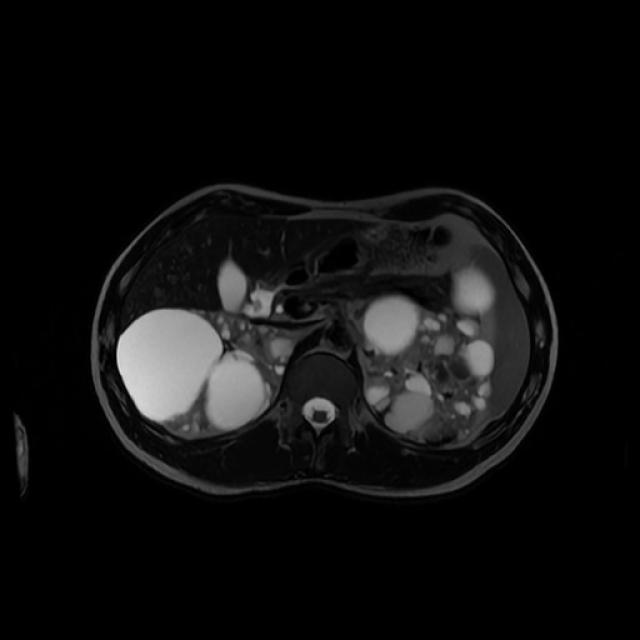sag: (115, 308, 294, 437)
sol: (362, 266, 497, 447)
